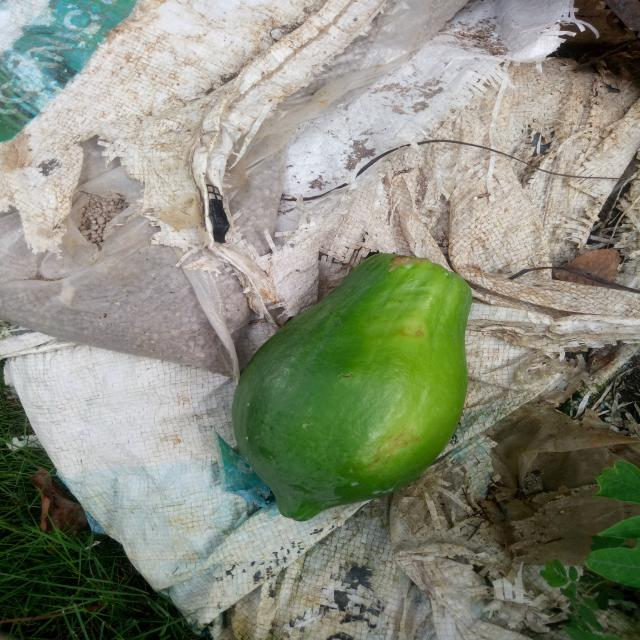Pepaya unrippen: (226, 248, 484, 524)
